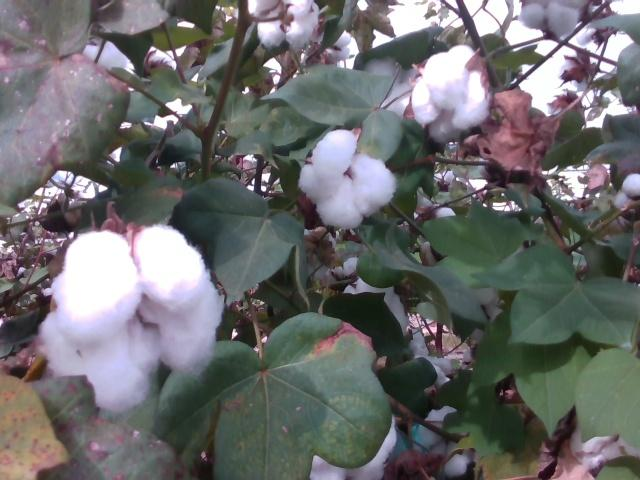cotton_ready: (44, 229, 224, 409), (298, 131, 395, 228), (412, 46, 491, 141), (248, 0, 318, 48), (518, 0, 588, 37)
